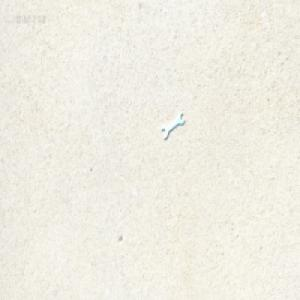Wrench: (161, 111, 183, 139)
